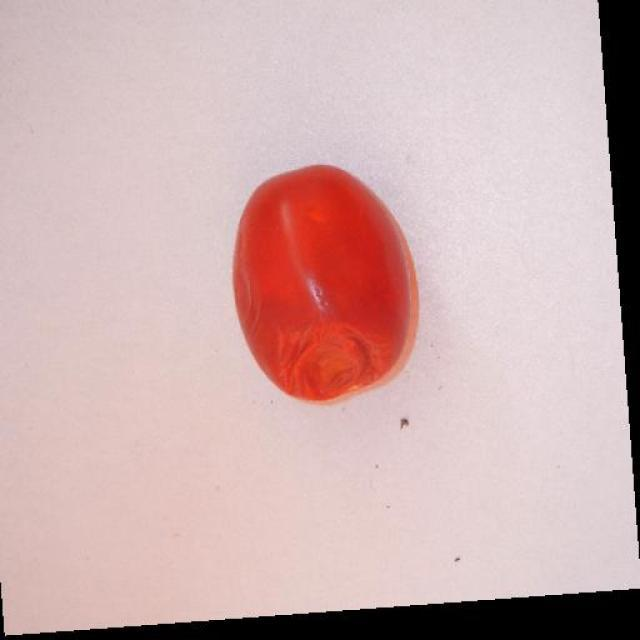Rotten Tomato: (225, 160, 413, 408)
